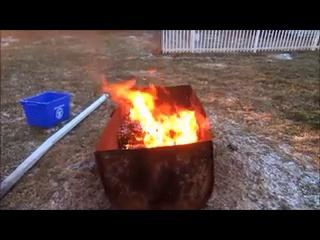Fire: (139, 93, 200, 143)
